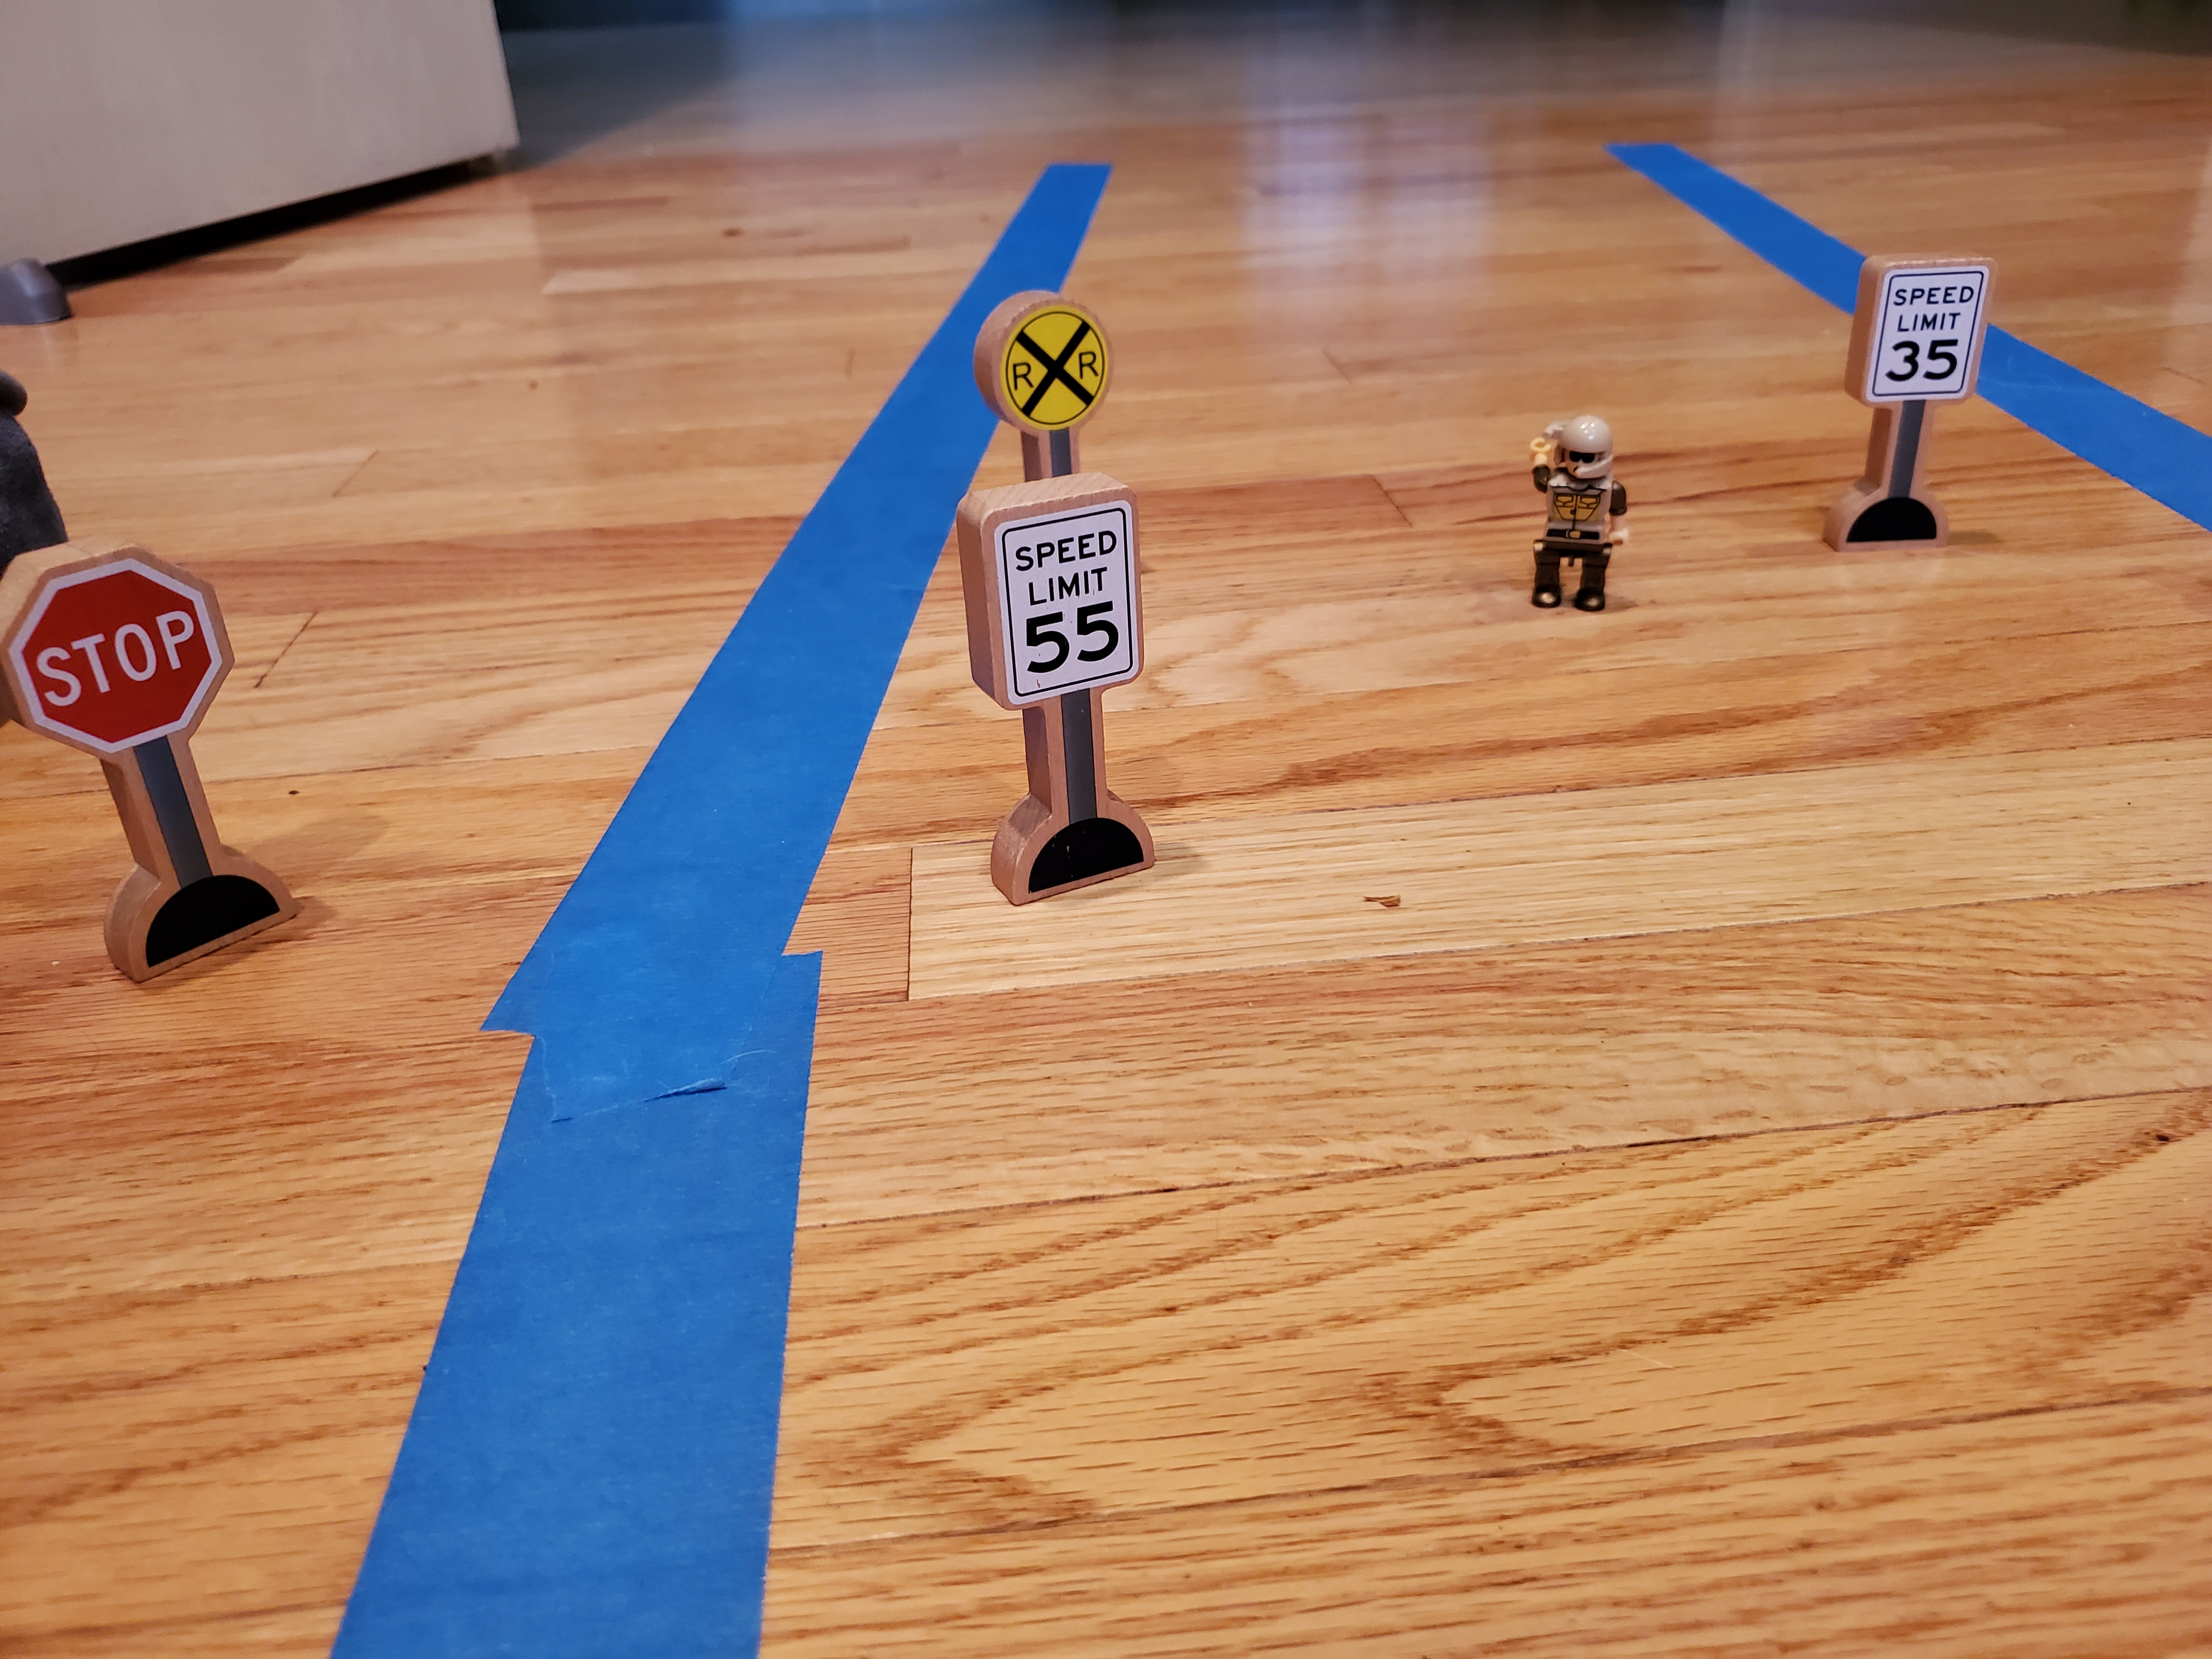Railroad Crossing: (968, 282, 1109, 438)
Speed Limit 35: (1859, 246, 2001, 410)
Speed Limit 55: (974, 485, 1147, 706)
Stop Sign: (6, 546, 250, 760)
person: (1525, 405, 1644, 631)
